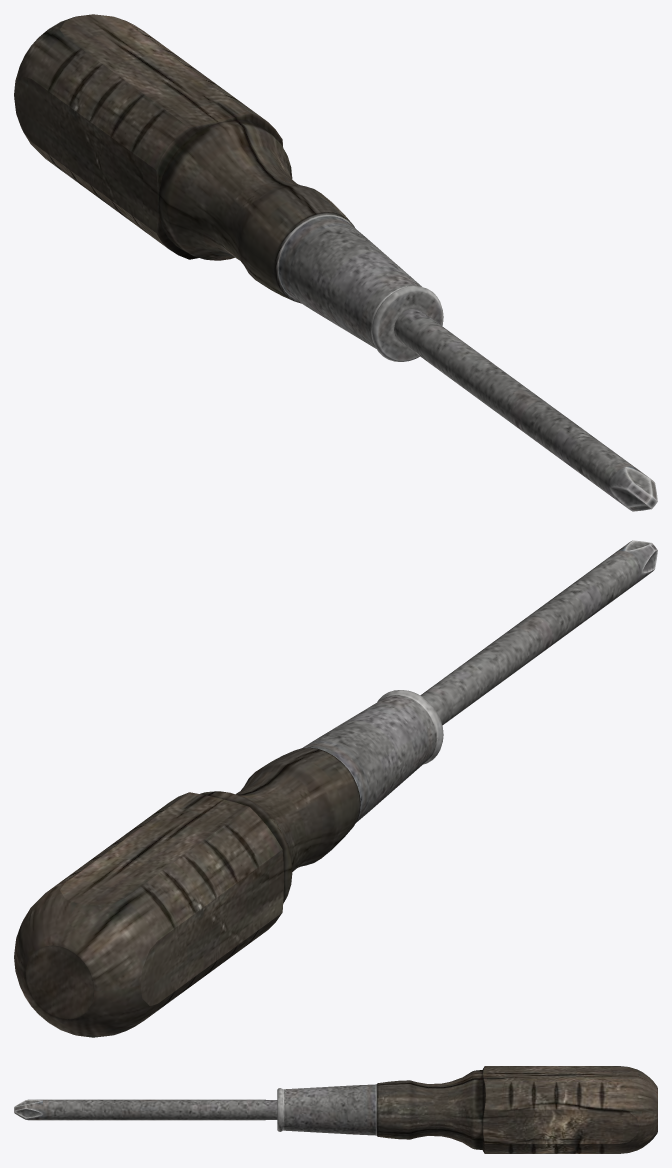
File: screwdrivers_02__b.glb
3 views of the same model, one above another, from view 1: azimuth 30°, elevation 25°; view 2: azimuth 150°, elevation 25°; view 3: azimuth 270°, elevation 25° (orthographic). The views are drawn at different scales.
Visible parts, largest first — view 1: screwdrivers_02; view 2: screwdrivers_02; view 3: screwdrivers_02.
Boxes of the visible parts, x1,y1,x2,y2 form: screwdrivers_02: [14, 14, 657, 511]; screwdrivers_02: [14, 540, 657, 1037]; screwdrivers_02: [14, 1066, 657, 1153].
Bounding box in the file's own units: 0.0271 × 0.0271 × 0.22.
1 material, 1 textured.
